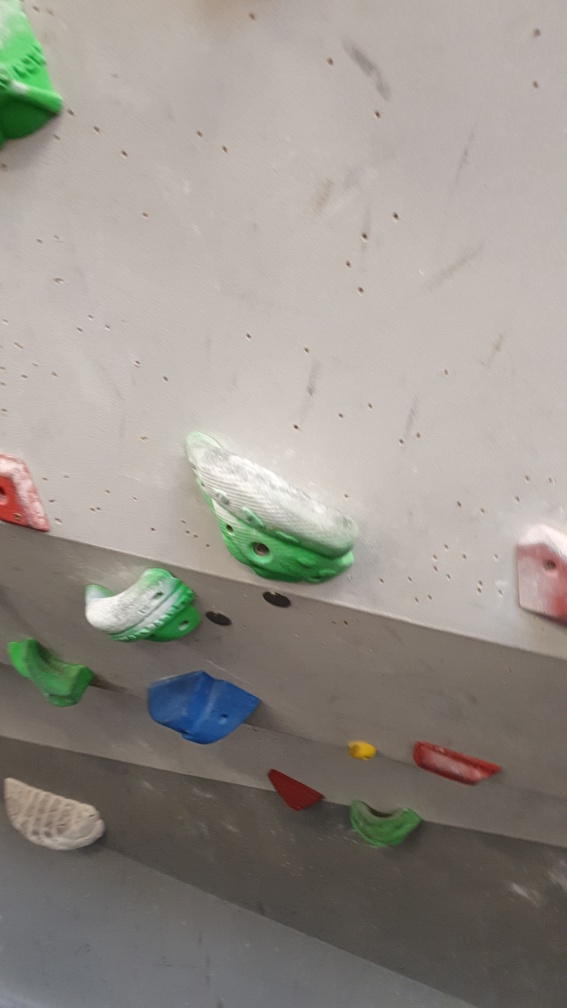Crimp: (410, 737, 505, 792), (1, 446, 54, 542)
Hand Start: (197, 600, 237, 637), (259, 582, 299, 615)
Jug: (180, 425, 363, 587), (74, 562, 204, 644), (6, 630, 103, 709), (347, 792, 430, 851)
Pinch: (140, 668, 267, 746)
